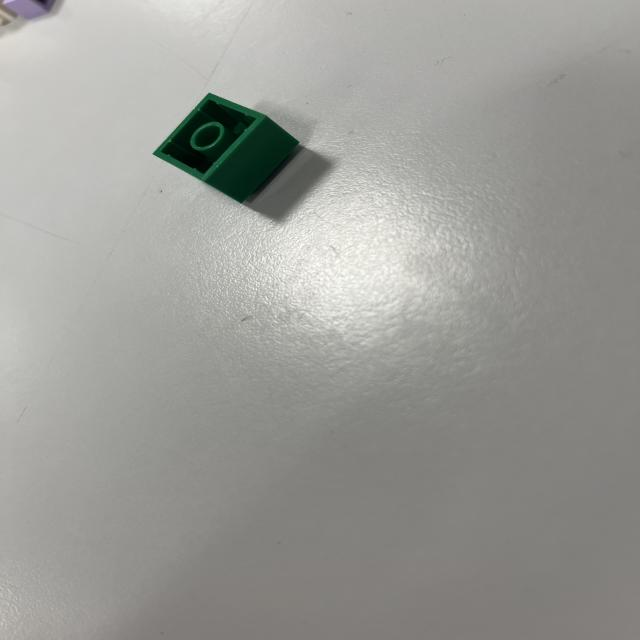C2x2x1: (157, 92, 307, 204)
